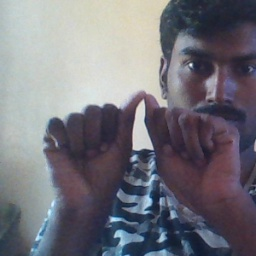A: (52, 89, 225, 199)
